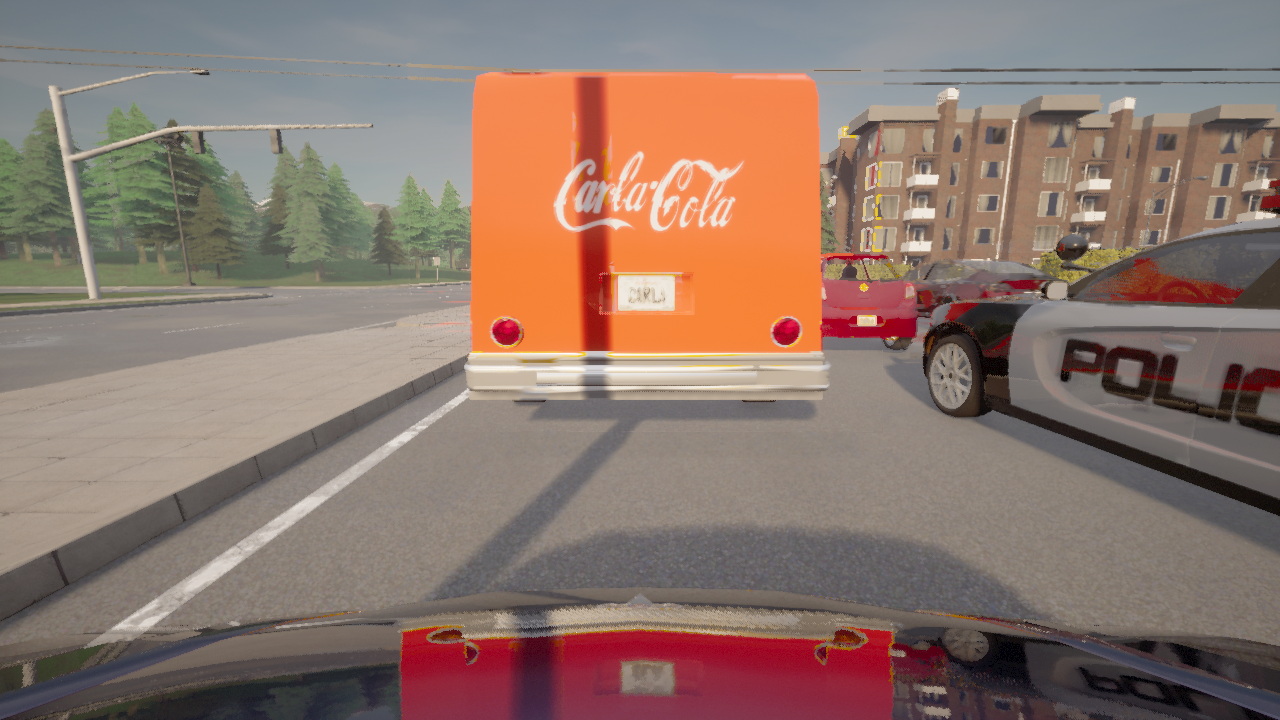cyclist: (0, 588, 1279, 719), (465, 73, 830, 403), (922, 179, 1279, 516), (902, 260, 1059, 319), (820, 255, 916, 350)
